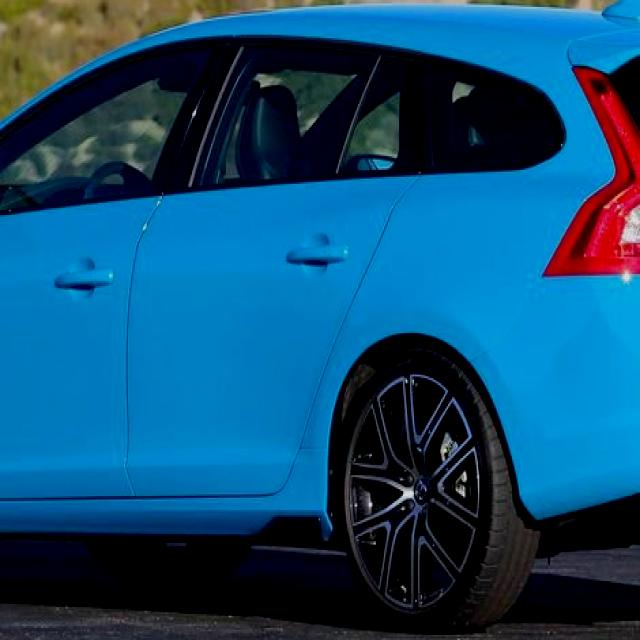blue: (3, 11, 640, 589)
